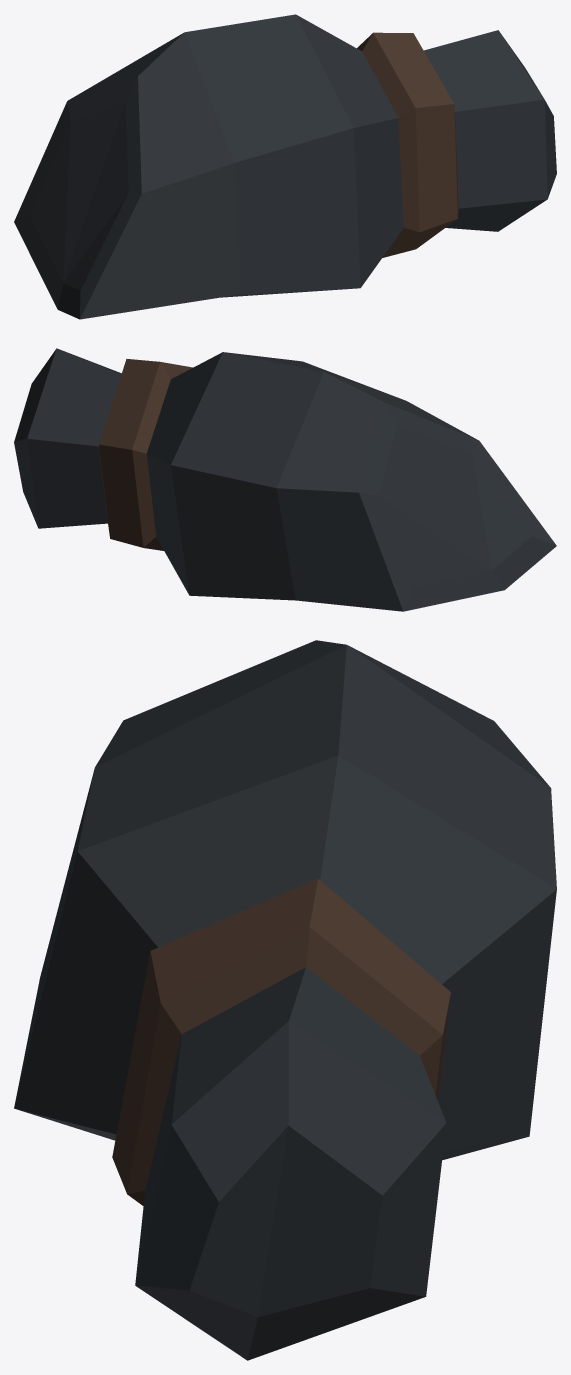
Rendered from Chr_ArmUpperLeft_Female_17_Static.fbx.
3 renders of one model, top to bottom at view 1: azimuth 30°, elevation 25°; view 2: azimuth 150°, elevation 25°; view 3: azimuth 270°, elevation 25°, orthographic. The views are drawn at different scales.
Visible parts, largest first — view 1: Chr_ArmUpperLeft_Female_17_Static; view 2: Chr_ArmUpperLeft_Female_17_Static; view 3: Chr_ArmUpperLeft_Female_17_Static.
Part boxes in pixels (x1,y1,x2,y2): Chr_ArmUpperLeft_Female_17_Static: (14, 14, 556, 319); Chr_ArmUpperLeft_Female_17_Static: (14, 348, 556, 611); Chr_ArmUpperLeft_Female_17_Static: (14, 640, 556, 1360).
Bounding box in the file's own units: 0.3512 × 0.168 × 0.1761.
